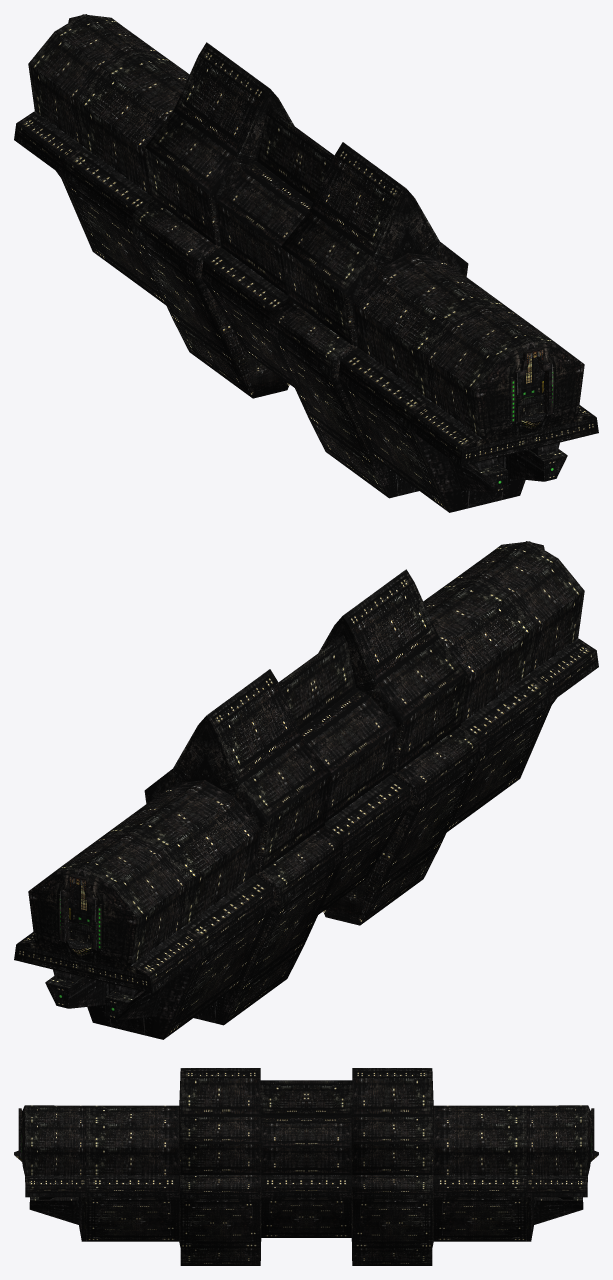
File: golem_mesh.fbx
The picture shows the model from 3 angles, top to bottom: view 1: azimuth 30°, elevation 25°; view 2: azimuth 150°, elevation 25°; view 3: azimuth 270°, elevation 25°; orthographic projection. The views are drawn at different scales.
Parts seen in each view (by area): view 1: Golem; view 2: Golem; view 3: Golem.
Boxes of the visible parts, x1,y1,x2,y2 form: Golem: [14, 14, 598, 512]; Golem: [14, 541, 598, 1039]; Golem: [14, 1068, 598, 1265].
Bounding box in the file's own units: 867 × 1702 × 4685.
